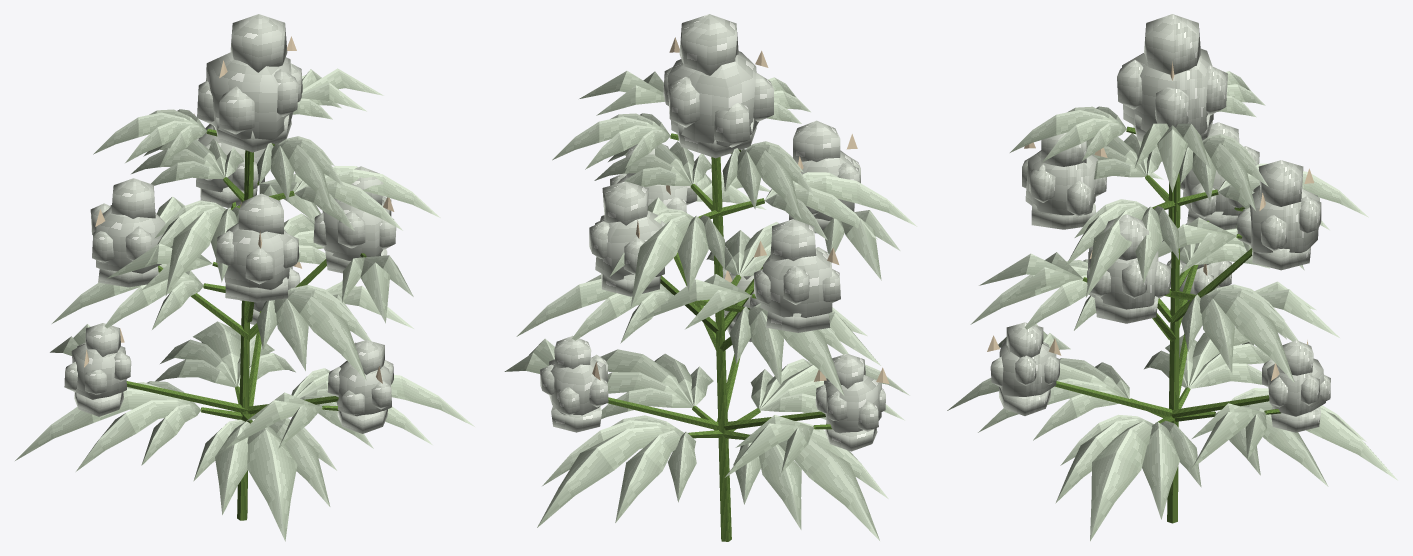
Rendered from hybrid_3.obj.
3 views of the same model, side by side, from view 1: azimuth 30°, elevation 25°; view 2: azimuth 150°, elevation 25°; view 3: azimuth 270°, elevation 25° (orthographic). The views are drawn at different scales.
Visible parts, largest first — view 1: plant; view 2: plant; view 3: plant.
Part boxes in pixels (x1=…): plant: x1=15, y1=14, x2=474, y2=541; plant: x1=504, y1=14, x2=917, y2=541; plant: x1=947, y1=14, x2=1397, y2=541.
Bounding box in the file's own units: 0.8396 × 1.05 × 0.8396.
